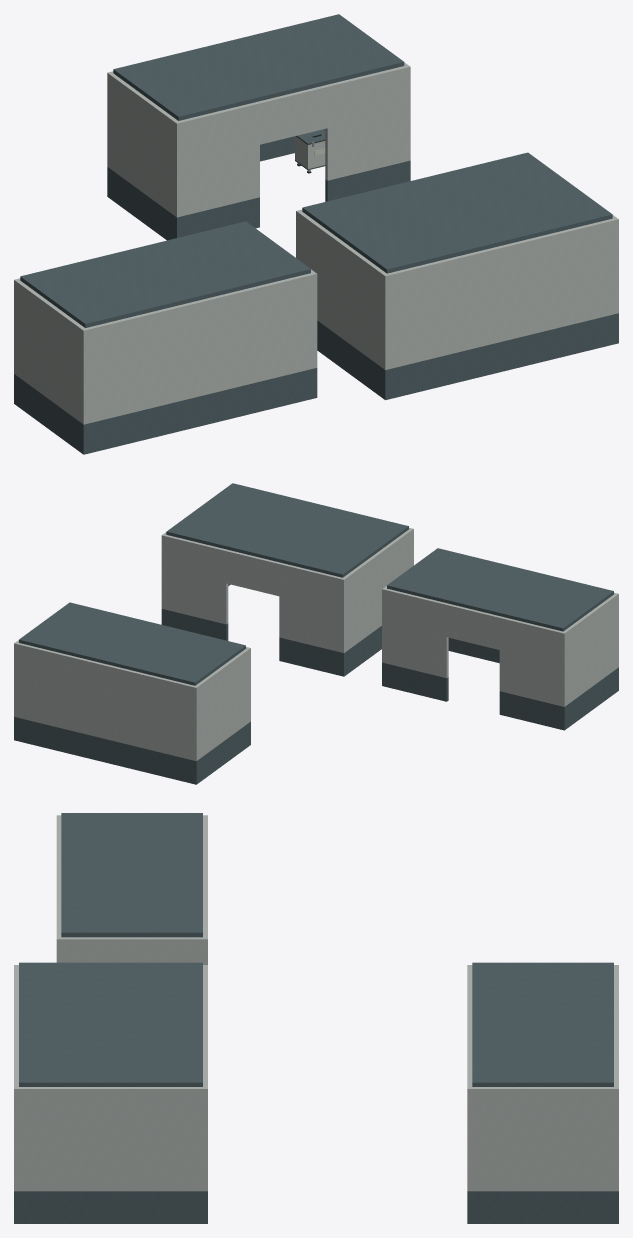
File: AST-STF-G3-004.glb
3 renders of one model, top to bottom at view 1: azimuth 30°, elevation 25°; view 2: azimuth 150°, elevation 25°; view 3: azimuth 270°, elevation 25°, orthographic. The views are drawn at different scales.
Visible parts, largest first — view 1: screen_wall_staff_white_paint_3_-42, screen_wall_staff_white_paint_2_-42, screen_wall_staff_white_paint_3_-43, overhead_staff_bluegrey_paint_3_-42, overhead_staff_bluegrey_paint_3_-43, overhead_staff_bluegrey_paint_2_-42, screen_wall_staff_bluegrey_paint_2_-42, screen_wall_staff_bluegrey_paint_3_-42, screen_wall_staff_bluegrey_paint_3_-43, receiver_header_staff_white_paint_3_-43, container_body_staff_white_paint_3_-43; view 2: screen_wall_staff_white_paint_3_-43, screen_wall_staff_white_paint_3_-42, screen_wall_staff_white_paint_2_-42, overhead_staff_bluegrey_paint_3_-42, overhead_staff_bluegrey_paint_3_-43, overhead_staff_bluegrey_paint_2_-42, screen_wall_staff_bluegrey_paint_3_-43, screen_wall_staff_bluegrey_paint_2_-42, screen_wall_staff_bluegrey_paint_3_-42, receiver_header_staff_white_paint_3_-42, receiver_header_staff_white_paint_2_-42; view 3: overhead_staff_bluegrey_paint_3_-42, screen_wall_staff_white_paint_3_-42, overhead_staff_bluegrey_paint_3_-43, overhead_staff_bluegrey_paint_2_-42, screen_wall_staff_white_paint_3_-43, screen_wall_staff_bluegrey_paint_3_-42, screen_wall_staff_white_paint_2_-42, screen_wall_staff_bluegrey_paint_3_-43.
Part boxes in pixels (<box>): screen_wall_staff_white_paint_3_-42: <box>296,209,618,369</box>; screen_wall_staff_white_paint_2_-42: <box>14,269,317,424</box>; screen_wall_staff_white_paint_3_-43: <box>107,62,410,217</box>; overhead_staff_bluegrey_paint_3_-42: <box>302,152,612,273</box>; overhead_staff_bluegrey_paint_3_-43: <box>113,14,404,120</box>; overhead_staff_bluegrey_paint_2_-42: <box>20,221,310,327</box>; screen_wall_staff_bluegrey_paint_2_-42: <box>14,368,317,454</box>; screen_wall_staff_bluegrey_paint_3_-42: <box>317,313,618,400</box>; screen_wall_staff_bluegrey_paint_3_-43: <box>107,129,410,240</box>; receiver_header_staff_white_paint_3_-43: <box>258,85,327,144</box>; container_body_staff_white_paint_3_-43: <box>295,136,325,168</box>; screen_wall_staff_white_paint_3_-43: <box>14,640,250,761</box>; screen_wall_staff_white_paint_3_-42: <box>161,527,413,652</box>; screen_wall_staff_white_paint_2_-42: <box>382,586,618,706</box>; overhead_staff_bluegrey_paint_3_-42: <box>166,483,408,577</box>; overhead_staff_bluegrey_paint_3_-43: <box>19,602,245,685</box>; overhead_staff_bluegrey_paint_2_-42: <box>387,548,613,631</box>; screen_wall_staff_bluegrey_paint_3_-43: <box>14,717,250,784</box>; screen_wall_staff_bluegrey_paint_2_-42: <box>382,638,618,730</box>; screen_wall_staff_bluegrey_paint_3_-42: <box>161,584,381,676</box>; receiver_header_staff_white_paint_3_-42: <box>226,550,280,596</box>; receiver_header_staff_white_paint_2_-42: <box>446,603,500,649</box>; overhead_staff_bluegrey_paint_3_-42: <box>19,962,202,1086</box>; screen_wall_staff_white_paint_3_-42: <box>14,965,207,1191</box>; overhead_staff_bluegrey_paint_3_-43: <box>472,962,613,1086</box>; overhead_staff_bluegrey_paint_2_-42: <box>61,813,202,937</box>; screen_wall_staff_white_paint_3_-43: <box>467,965,618,1191</box>; screen_wall_staff_bluegrey_paint_3_-42: <box>14,1191,207,1223</box>; screen_wall_staff_white_paint_2_-42: <box>56,815,207,964</box>; screen_wall_staff_bluegrey_paint_3_-43: <box>467,1191,618,1223</box>.
Bounding box in the file's own units: 18.28 × 4.34 × 17.08.
6 materials, 6 textured.
